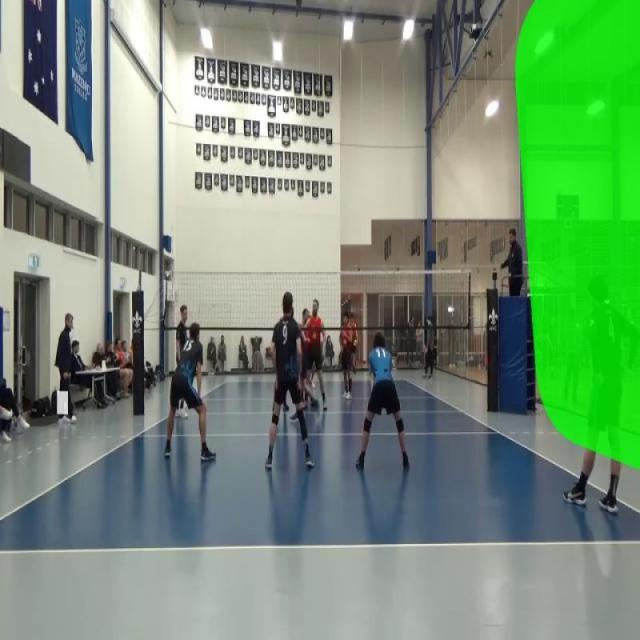volleyball: (353, 338, 358, 348)
